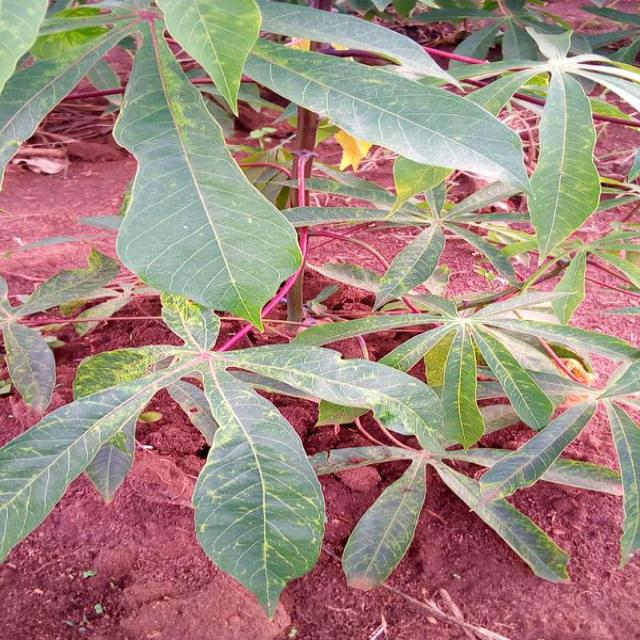cassava leaf: (110, 12, 304, 333), (190, 366, 326, 620), (526, 66, 601, 267)
